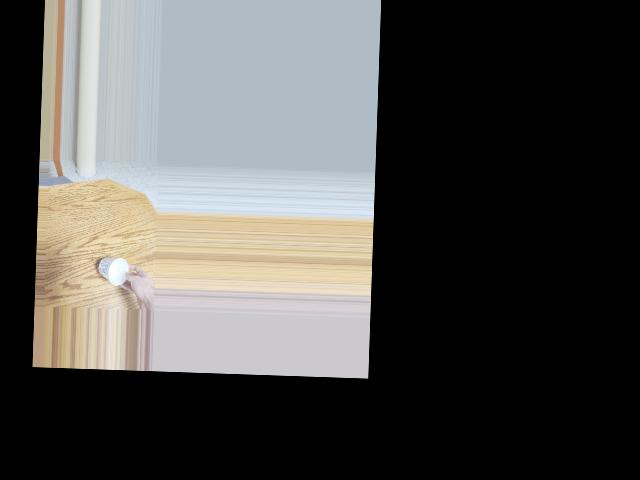cotage: (99, 257, 129, 280)
